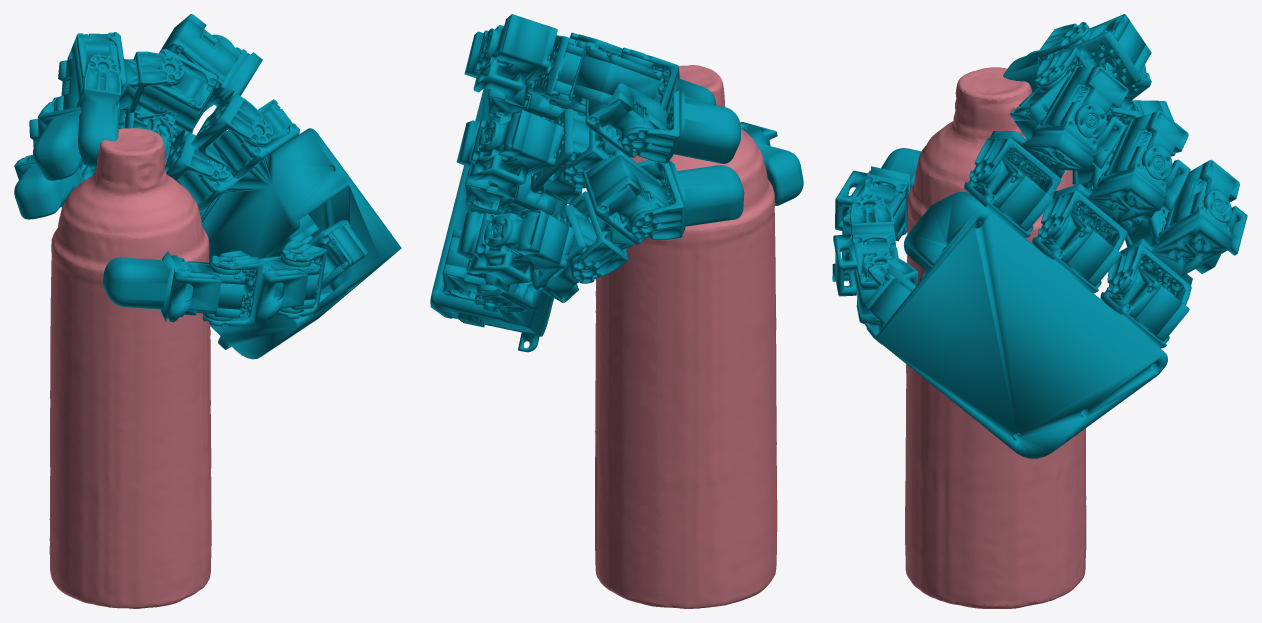
3 renders of one model, left to right at view 1: azimuth 30°, elevation 25°; view 2: azimuth 150°, elevation 25°; view 3: azimuth 270°, elevation 25°, orthographic. The views are drawn at different scales.
Parts seen in each view (by area): view 1: world; view 2: world; view 3: world.
Part boxes in pixels (x1=…): world: x1=14, y1=14, x2=401, y2=608; world: x1=430, y1=14, x2=803, y2=608; world: x1=832, y1=14, x2=1247, y2=608.
Size of the model in its own units: 0.1814 by 0.2923 by 0.1935.
